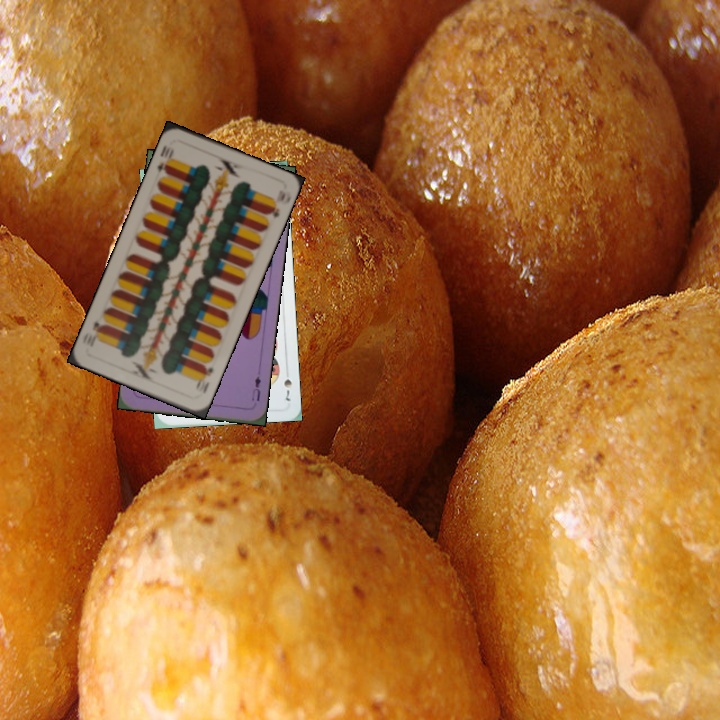E10: (192, 361, 216, 396), (153, 144, 176, 177)
EU: (247, 372, 263, 404)
S7: (280, 375, 294, 404)
